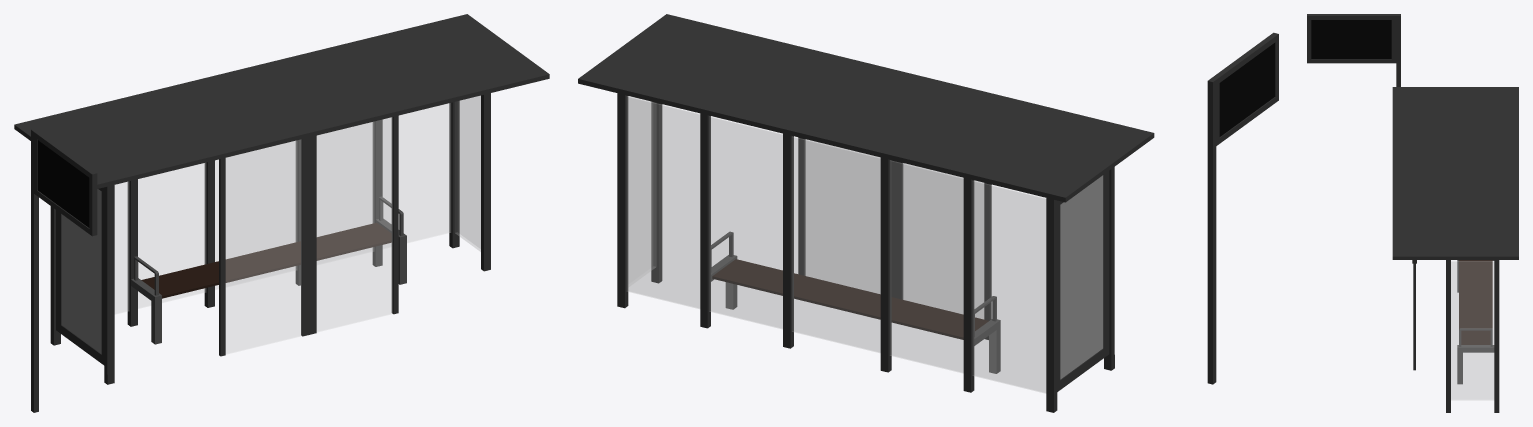
Rendered from bus_stop.fbx.
The picture shows the model from 3 angles, left to right: view 1: azimuth 30°, elevation 25°; view 2: azimuth 150°, elevation 25°; view 3: azimuth 270°, elevation 25°; orthographic projection. The views are drawn at different scales.
Parts seen in each view (by area): view 1: Box001; view 2: Box001; view 3: Box001.
Boxes of the visible parts, bbox=[...] form: Box001: bbox=[14, 14, 549, 412]; Box001: bbox=[578, 14, 1278, 412]; Box001: bbox=[1307, 14, 1518, 412].
Size of the model in its own units: 120 by 62.99 by 56.12.
